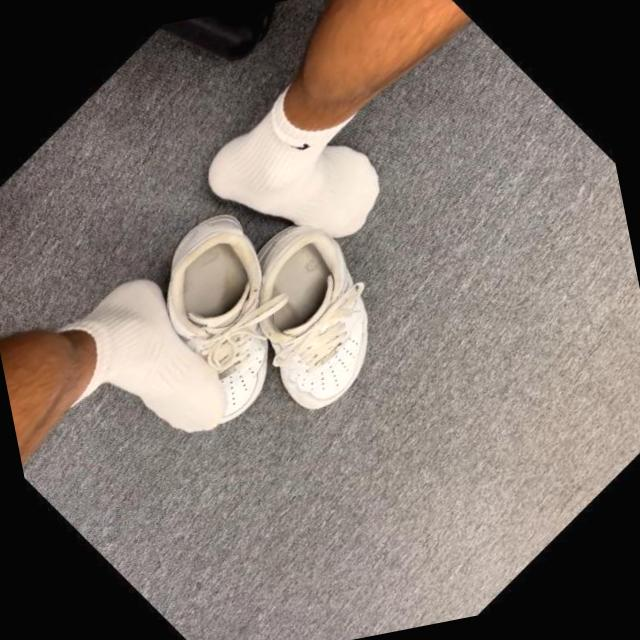nike_original_airforce: (80, 182, 351, 456), (180, 184, 440, 446)
